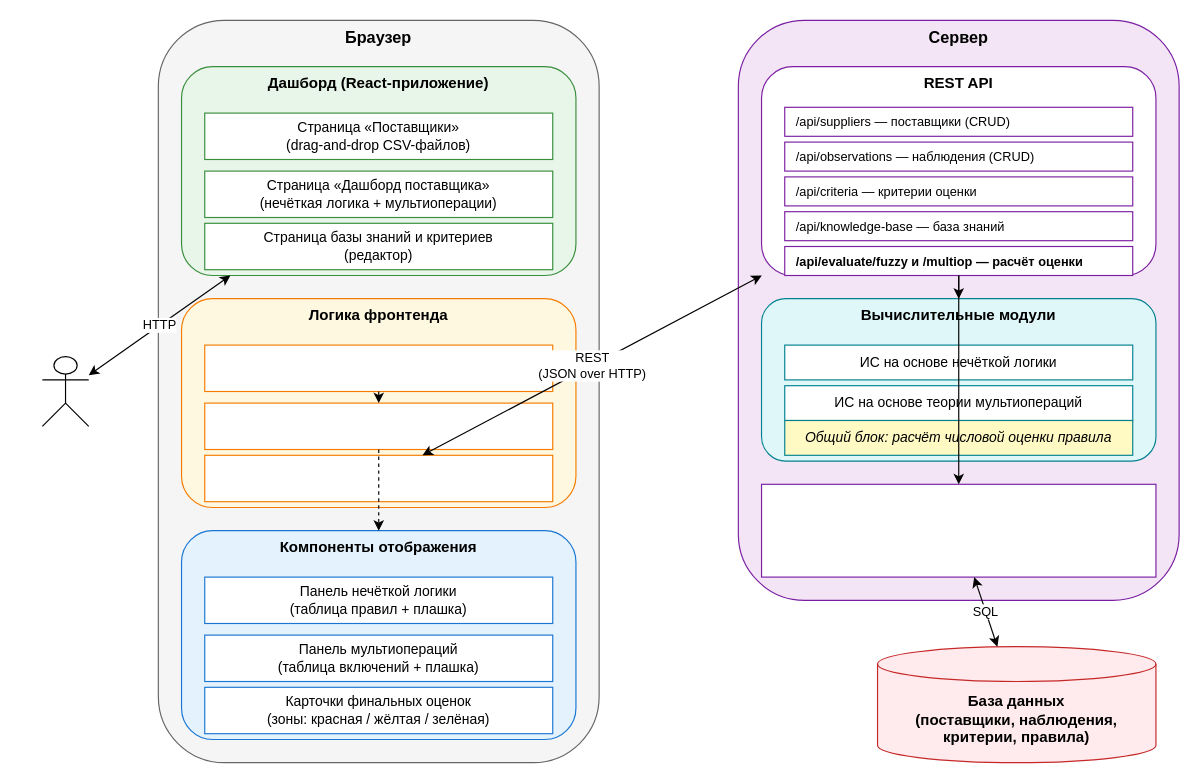
Image size: 1199x783. Some labels were removed from this diagram. Each missing label, with the centre of its shape:
"HTTP-клиент (запросы к бэкенду)" goes at (x=378, y=478).
"ORM-слой (модели поставщиков, наблюдений, критериев, правил)" goes at (x=958, y=530).
"Парсер CSV (значения + флаги достоверности)" goes at (x=378, y=368).
"Пользователь (аналитик)" goes at (x=65, y=391).
"Хранилище состояния (поставщики, оценки, кэш)" goes at (x=378, y=425).
